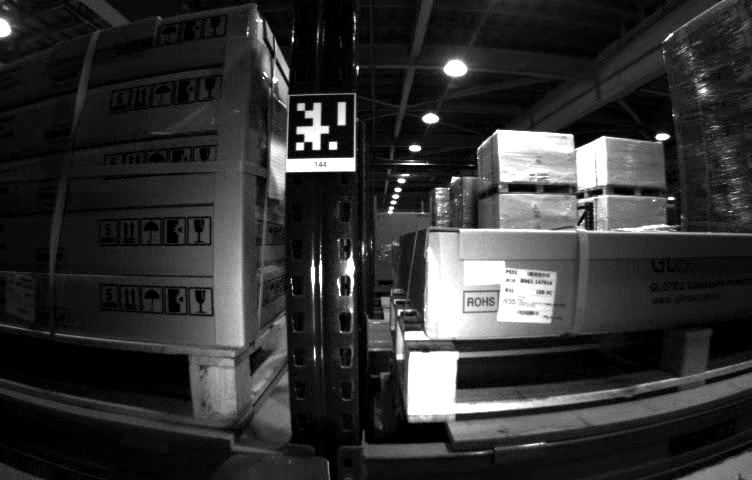True Barcode: (502, 266, 554, 326), (6, 271, 37, 326)
